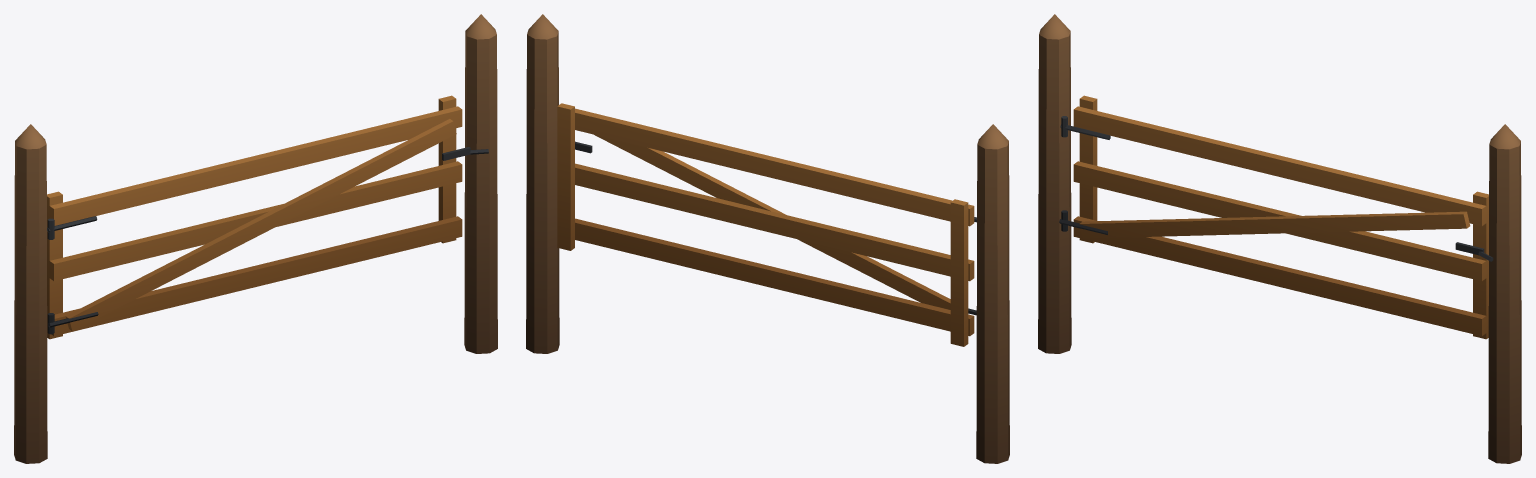
File: Gate_Wood.fbx
The picture shows the model from 3 angles, left to right: view 1: azimuth 30°, elevation 25°; view 2: azimuth 150°, elevation 25°; view 3: azimuth 330°, elevation 25°; orthographic projection.
Visible parts, largest first — view 1: Gate_Wood_LOD0; view 2: Gate_Wood_LOD0; view 3: Gate_Wood_LOD0.
Boxes of the visible parts, <box> form: Gate_Wood_LOD0: <box>14,14,497,463</box>; Gate_Wood_LOD0: <box>526,14,1009,463</box>; Gate_Wood_LOD0: <box>1038,14,1521,463</box>.
Size of what is drawn, in the model's own units: 3.2 by 2.12 by 0.233.
1 material, 1 textured.
